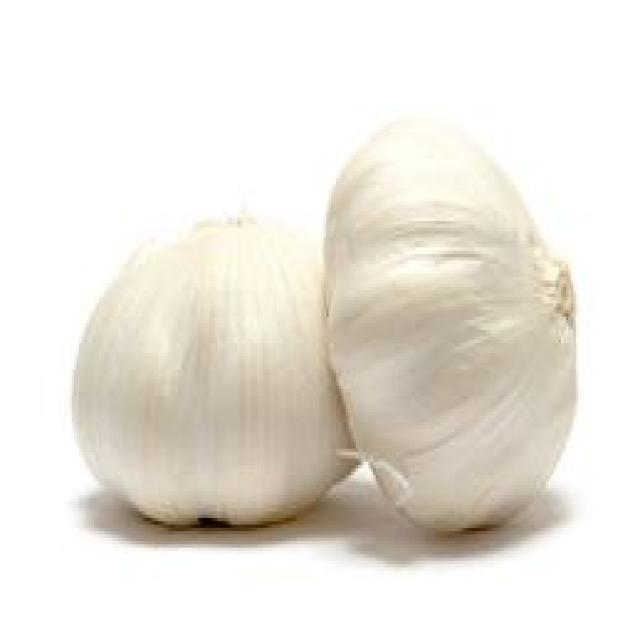garlic: (47, 102, 615, 551)
